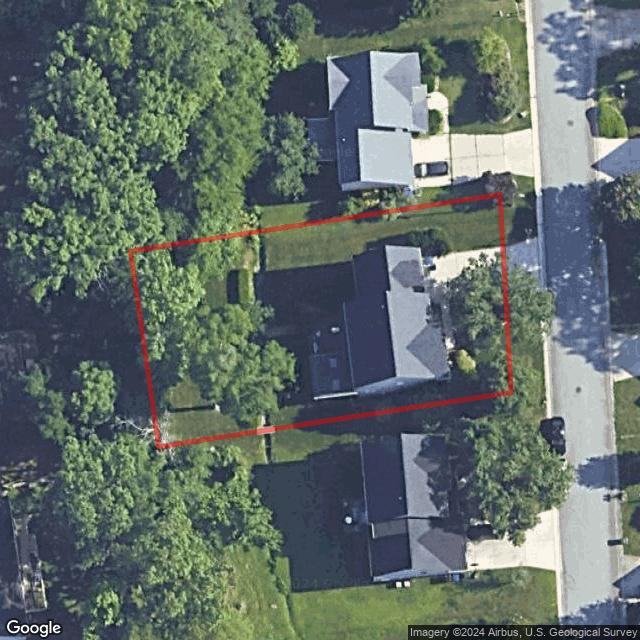Driveway: (422, 247, 505, 303)
Extra-Driveway: (503, 236, 542, 299)
Extra-Lawn: (505, 295, 544, 391), (500, 192, 538, 247)
House: (343, 243, 451, 393)
Lawn: (131, 193, 512, 447)
Other: (309, 326, 355, 401), (429, 302, 443, 323)
Sidewalk: (432, 301, 456, 350)
